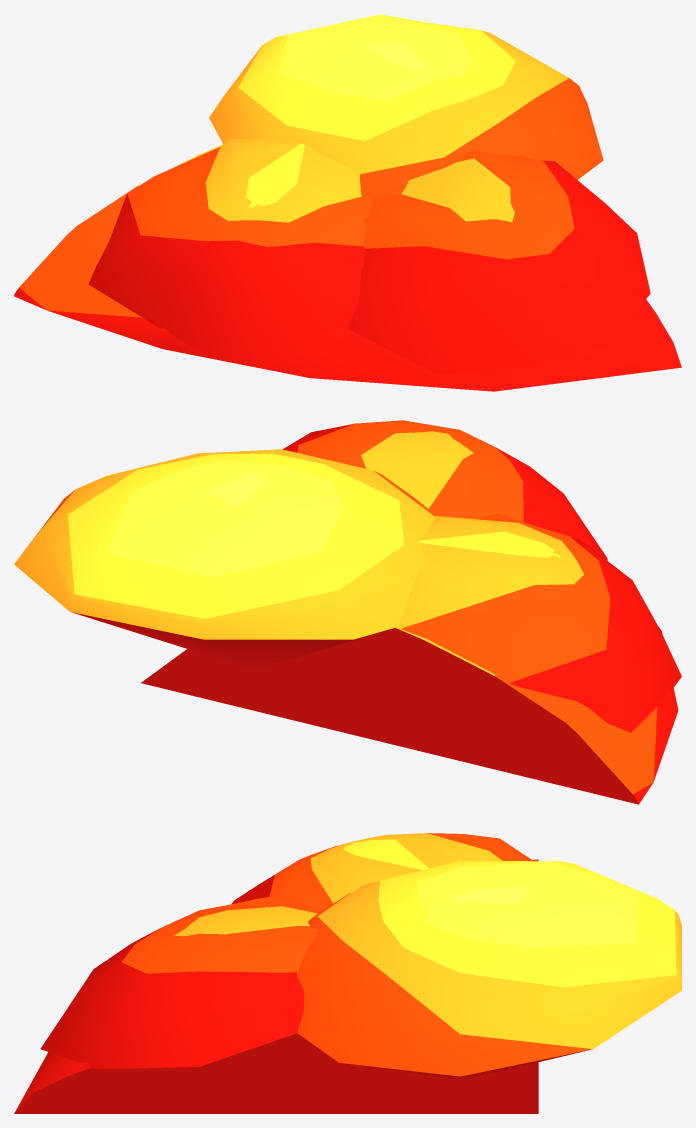
Rendered from shot_zflame_212.glb.
3 renders of one model, top to bottom at view 1: azimuth 30°, elevation 25°; view 2: azimuth 150°, elevation 25°; view 3: azimuth 270°, elevation 25°, orthographic. The views are drawn at different scales.
Visible parts, largest first — view 1: zflame_2_billow5_b212, zflame_2_billow6_b212, zflame_2_billow2_b212, zflame_2_bed_b212; view 2: zflame_2_billow2_b212, zflame_2_bed_b212, zflame_2_billow6_b212, zflame_2_billow5_b212; view 3: zflame_2_billow2_b212, zflame_2_billow5_b212, zflame_2_bed_b212, zflame_2_billow6_b212.
Boxes of the visible parts, bbox=[...] form: zflame_2_billow5_b212: bbox=[348, 150, 650, 373]; zflame_2_billow6_b212: bbox=[88, 138, 372, 357]; zflame_2_billow2_b212: bbox=[209, 14, 603, 198]; zflame_2_bed_b212: bbox=[14, 145, 681, 391]; zflame_2_billow2_b212: bbox=[14, 449, 435, 669]; zflame_2_bed_b212: bbox=[141, 626, 678, 804]; zflame_2_billow6_b212: bbox=[399, 513, 681, 732]; zflame_2_billow5_b212: bbox=[283, 420, 607, 560]; zflame_2_billow2_b212: bbox=[297, 860, 681, 1080]; zflame_2_billow5_b212: bbox=[40, 894, 322, 1069]; zflame_2_bed_b212: bbox=[14, 859, 538, 1113]; zflame_2_billow6_b212: bbox=[231, 833, 533, 910].
Bounding box in the file's own units: 12.99 × 3.91 × 12.8.
